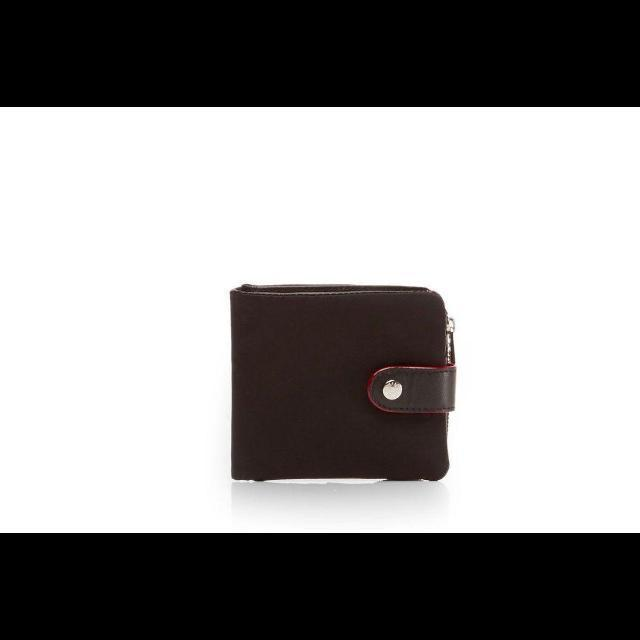wallet: (226, 276, 456, 486)
